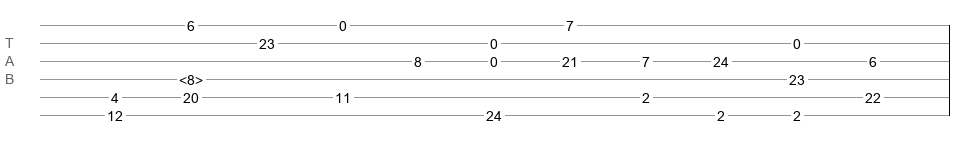0: (339, 18, 347, 28), (490, 36, 498, 46), (490, 54, 498, 64), (793, 36, 801, 46)
11: (335, 90, 351, 100)
12: (107, 108, 123, 118)
2: (642, 90, 650, 100), (717, 108, 725, 118), (793, 108, 801, 118)
20: (183, 90, 199, 100)
21: (562, 54, 578, 64)
22: (865, 90, 881, 100)
23: (259, 36, 275, 46), (789, 72, 805, 82)
24: (486, 108, 502, 118), (713, 54, 729, 64)
4: (111, 90, 119, 100)
6: (187, 18, 195, 28), (869, 54, 877, 64)
7: (566, 18, 574, 28), (642, 54, 650, 64)
8: (414, 54, 422, 64)
harmonic: (179, 72, 203, 82)
